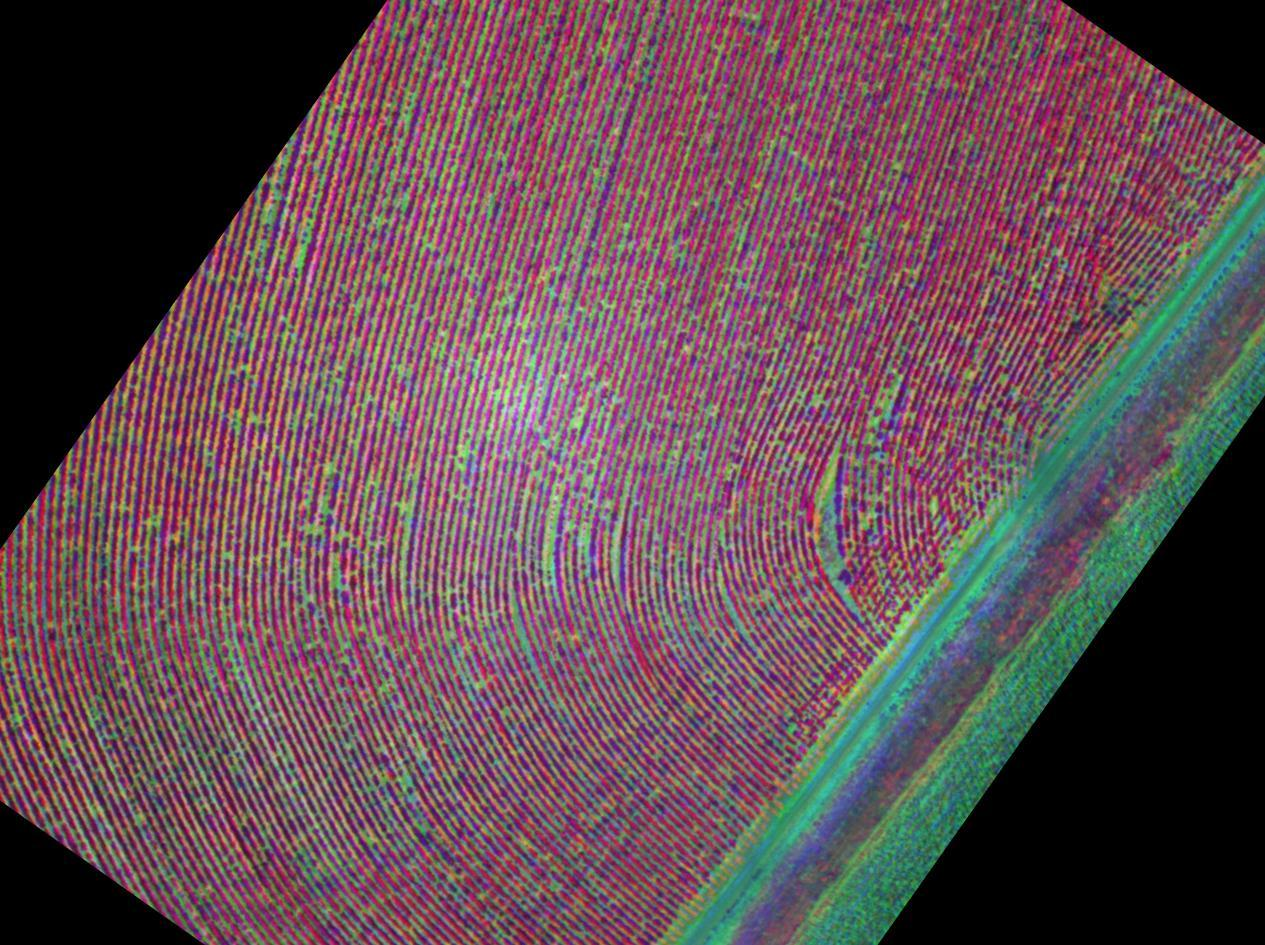dc: (311, 713, 418, 829), (786, 463, 876, 597), (291, 343, 366, 450), (263, 165, 347, 252), (61, 598, 165, 665)
